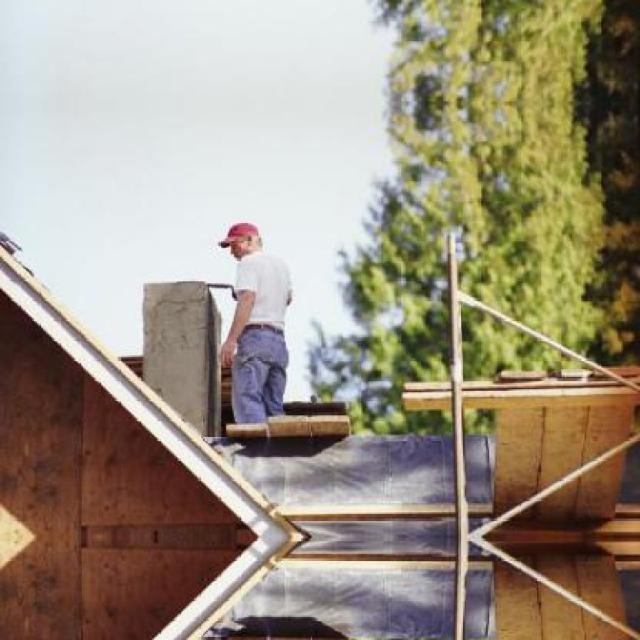helmet: (219, 216, 264, 261)
